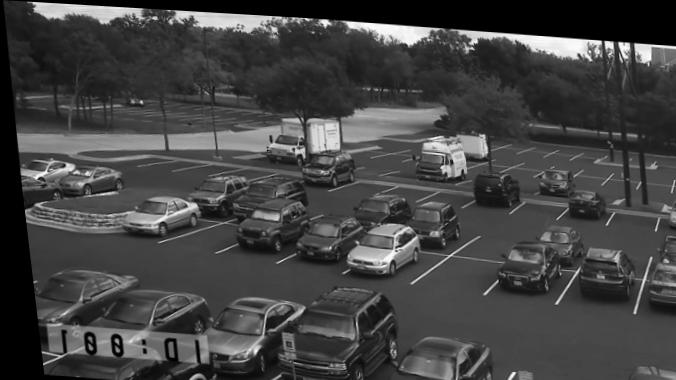empty: (403, 246, 493, 288), (497, 347, 608, 380), (157, 217, 233, 252), (599, 200, 655, 226), (463, 221, 512, 248), (378, 176, 432, 197), (597, 227, 641, 252), (510, 193, 559, 213), (137, 156, 205, 170), (329, 174, 386, 190), (422, 179, 467, 197), (300, 193, 342, 212), (372, 144, 418, 157), (175, 163, 231, 173), (224, 164, 271, 175), (498, 160, 536, 173), (595, 171, 636, 183), (607, 160, 643, 173), (577, 155, 612, 168), (631, 175, 672, 186), (507, 171, 534, 186), (649, 150, 676, 164), (515, 149, 549, 160), (571, 143, 604, 154), (638, 164, 670, 175), (486, 147, 520, 157), (571, 167, 604, 177), (549, 154, 582, 164), (590, 181, 613, 195), (466, 156, 504, 164), (492, 137, 524, 146), (543, 142, 573, 151), (519, 140, 547, 149), (668, 167, 676, 176), (669, 178, 676, 188)
occupied: (261, 281, 400, 380), (169, 293, 301, 376), (61, 284, 203, 358), (27, 263, 131, 338), (372, 325, 498, 380), (340, 215, 425, 276), (285, 207, 362, 261), (231, 195, 306, 250), (489, 234, 560, 286), (567, 240, 634, 293), (116, 194, 196, 234), (293, 144, 351, 188), (411, 130, 464, 177), (402, 197, 455, 243), (347, 189, 413, 225), (186, 174, 242, 214), (52, 164, 118, 197), (470, 166, 518, 209), (639, 249, 676, 301), (534, 218, 577, 260), (233, 173, 301, 199), (619, 353, 676, 380), (17, 176, 59, 208), (565, 182, 602, 213), (532, 161, 570, 191), (658, 228, 676, 255), (664, 192, 676, 219)
